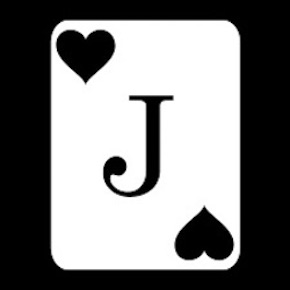JackOfSpades: (45, 15, 248, 274)
